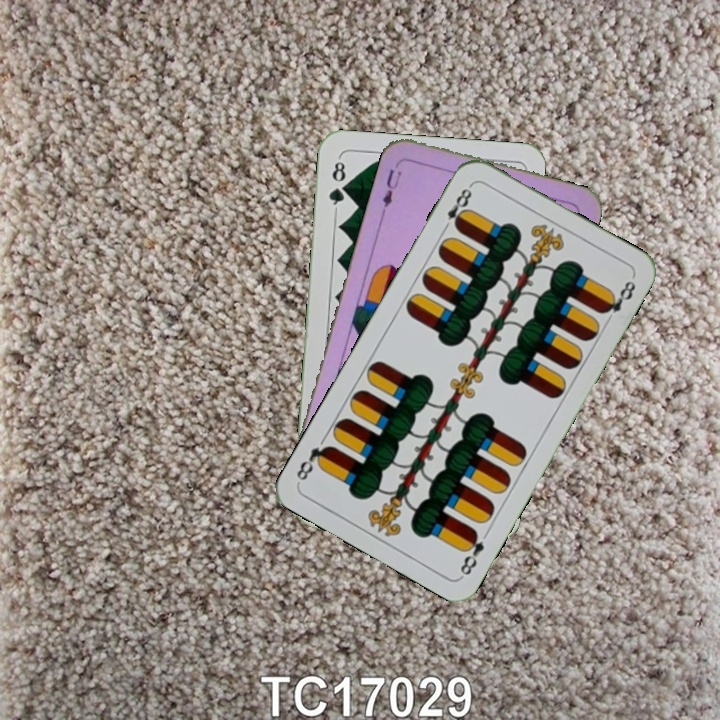E8: (438, 180, 476, 234), (456, 526, 487, 580)
EU: (378, 157, 404, 215)
G8: (324, 154, 349, 213)
